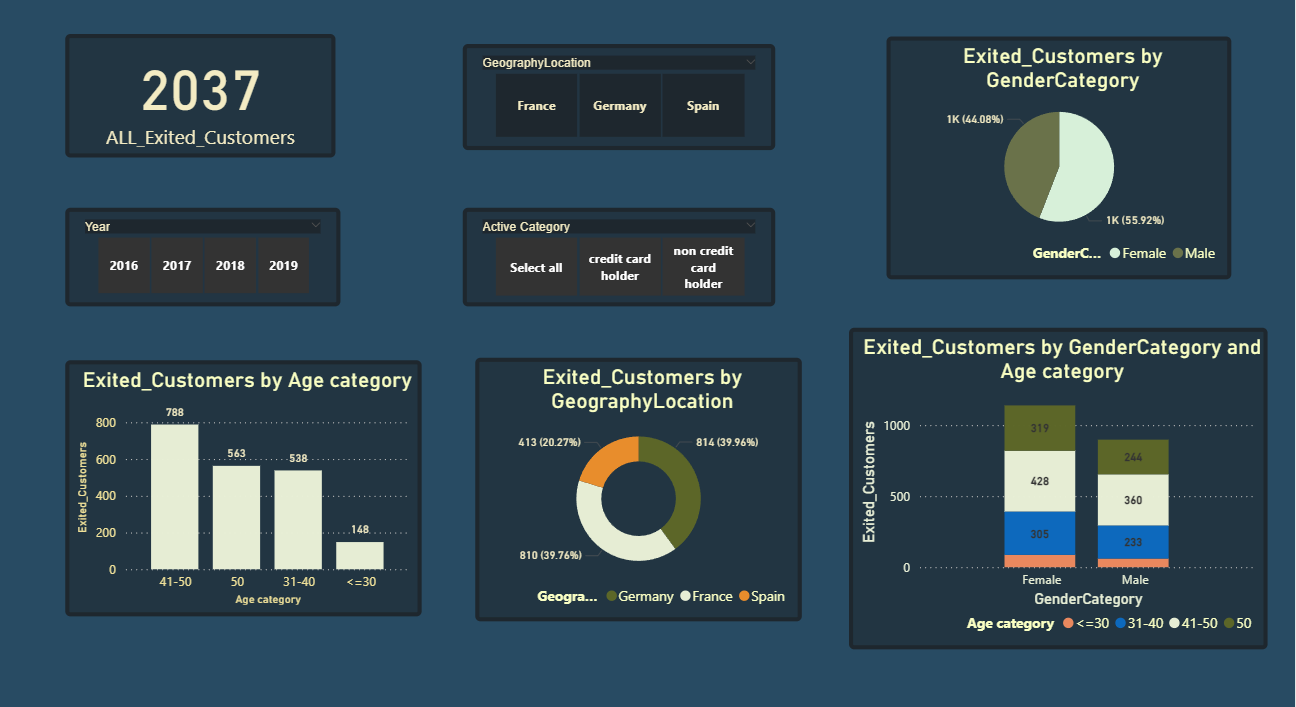

What the dashboard file says about the page in this screenshot:
{"tool":"powerbi","page":{"name":"Page 2","canvas":[1280,720],"ordinal":1},"visuals":[{"type":"pieChart","fields":{"Y":["Bank_Churn.Existed_Customers"],"Category":["Gender.GenderCategory"]},"box":[885.5,55.5,333,234],"z":0},{"type":"donutChart","fields":{"Y":["Bank_Churn.Existed_Customers"],"Category":["Geography.GeographyLocation"]},"box":[488.6,365.6,314.9,254.6],"z":1000},{"type":"clusteredColumnChart","fields":{"Category":["Bank_Churn.Age category"],"Y":["Bank_Churn.Existed_Customers"]},"box":[92.9,368,343.8,247.3],"z":2000},{"type":"card","fields":{"Values":["Bank_Churn.% Existed Customers"]},"box":[92.9,53.1,260.6,119.4],"z":3000},{"type":"columnChart","fields":{"Y":["Bank_Churn.Exited_Customers"],"Category":["Gender.GenderCategory"],"Series":["Bank_Churn.Age category"]},"box":[849.3,336.6,404.2,310.1],"z":4000},{"type":"slicer","fields":{"Values":["DateTable.Year"]},"box":[92.9,220.8,265.4,95.3],"z":5000},{"type":"slicer","fields":{"Values":["Geography.GeographyLocation"]},"box":[476.5,62.7,301.6,102.5],"z":6000},{"type":"slicer","fields":{"Values":["CreditCard.Category"]},"box":[476.5,220.8,301.6,95.3],"z":7000}]}

Visuals, with their boxes on the page's 1280x720 design canvas (x1, y1, x2, y2). These are canvas units, not pixel positions in the 1296x707 screenshot, which may show the page scaled, cropped or inside an application window:
pieChart - Bank_Churn.Existed_Customers x Gender.GenderCategory: Rect(886, 56, 1218, 290)
donutChart - Bank_Churn.Existed_Customers x Geography.GeographyLocation: Rect(489, 366, 804, 620)
clusteredColumnChart - Bank_Churn.Age category x Bank_Churn.Existed_Customers: Rect(93, 368, 437, 615)
card - Bank_Churn.% Existed Customers: Rect(93, 53, 354, 172)
columnChart - Bank_Churn.Exited_Customers x Gender.GenderCategory: Rect(849, 337, 1254, 647)
slicer - DateTable.Year: Rect(93, 221, 358, 316)
slicer - Geography.GeographyLocation: Rect(476, 63, 778, 165)
slicer - CreditCard.Category: Rect(476, 221, 778, 316)
